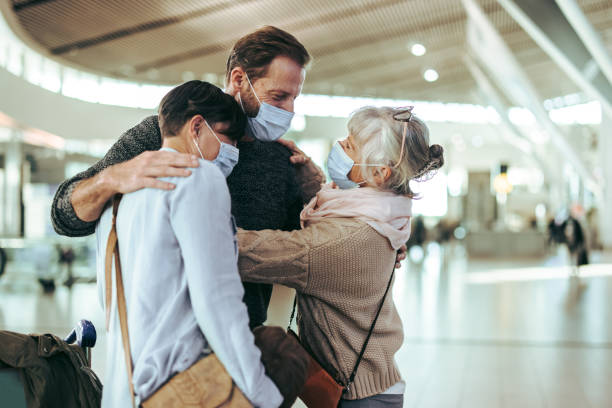with mask: (331, 85, 423, 198), (232, 25, 314, 148), (181, 92, 241, 194)
